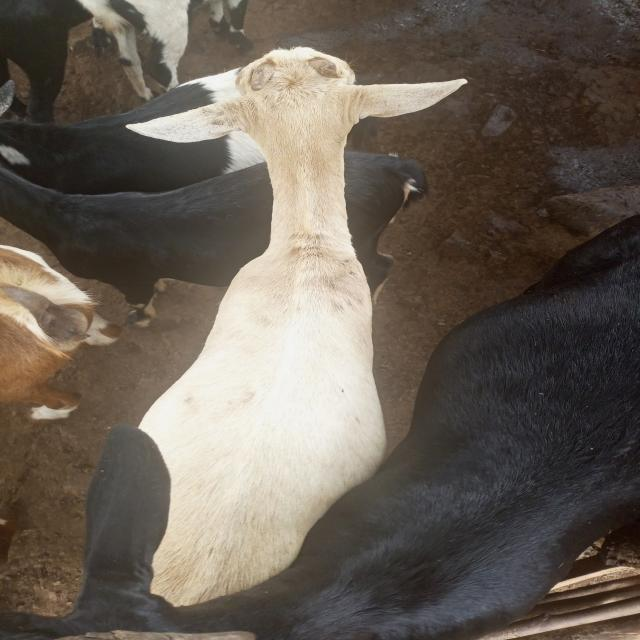goat: (80, 33, 507, 638)
